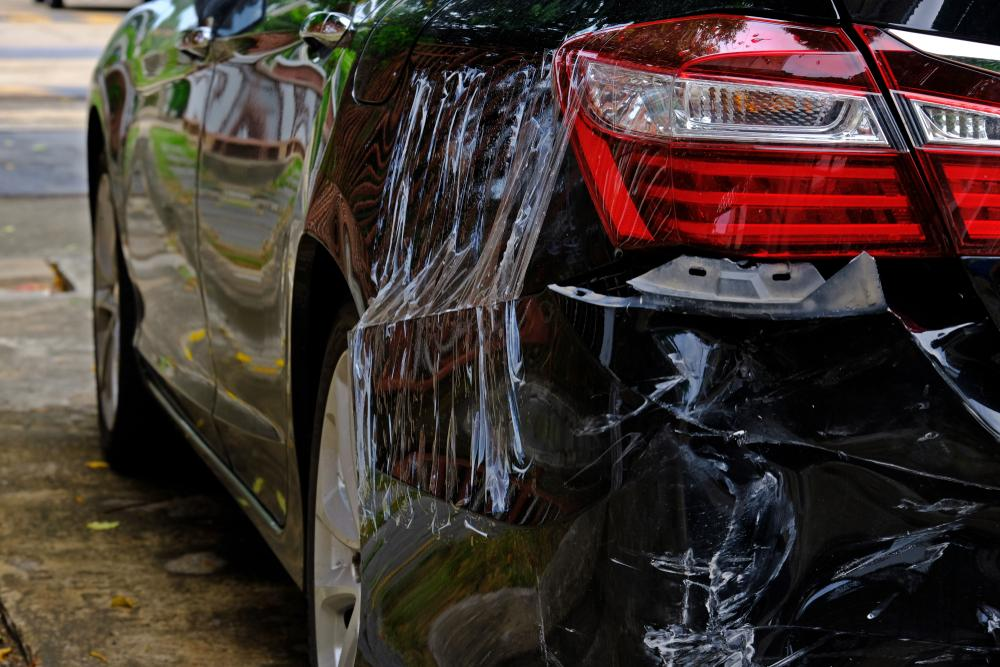dent: (548, 304, 998, 667)
